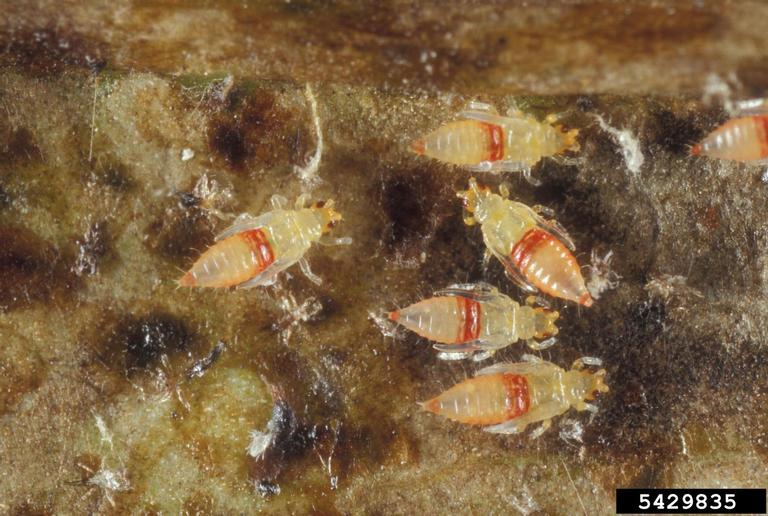Thrips: (425, 174, 612, 315), (149, 194, 350, 319), (420, 358, 628, 447), (382, 108, 603, 188), (389, 277, 570, 358)
